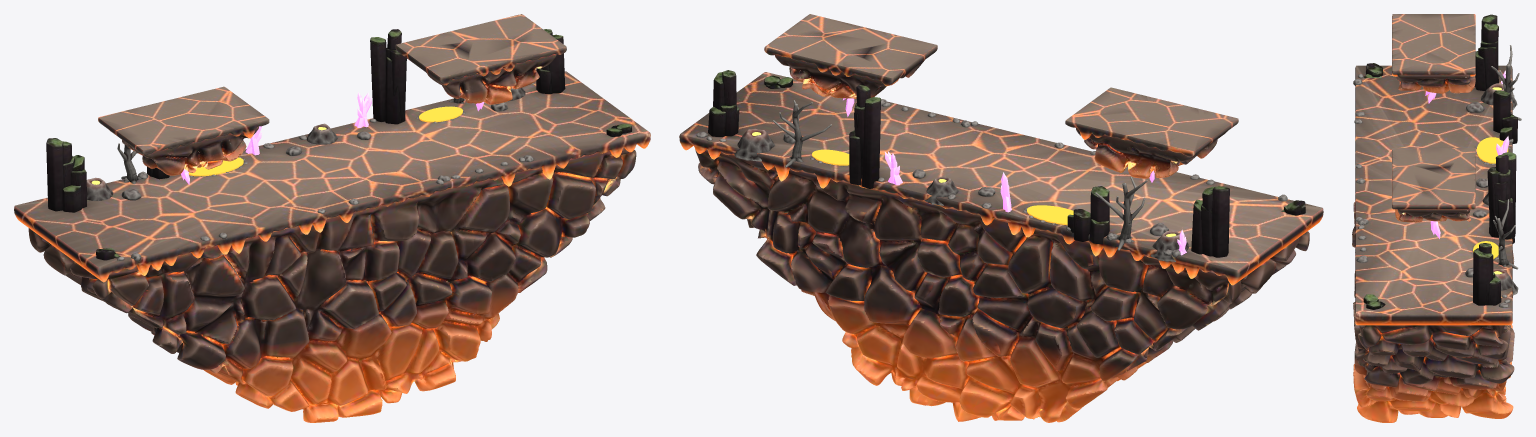
Rendered from volcan.glb.
3 views of the same model, side by side, from view 1: azimuth 30°, elevation 25°; view 2: azimuth 150°, elevation 25°; view 3: azimuth 270°, elevation 25° (orthographic). The views are drawn at different scales.
Parts seen in each view (by area): view 1: volcan_roca, volcan_costra, basalto, vplat1_costra, vplat0_costra, vplat0_roca, vplat1_roca, piedras, respiraderos, lava, cristales; view 2: volcan_roca, volcan_costra, basalto, vplat1_costra, vplat0_costra, vplat0_roca, vplat1_roca, respiraderos, arboles_quemados, piedras, lava, cristales; view 3: volcan_costra, volcan_roca, basalto, vplat1_costra, vplat0_costra, vplat0_roca, piedras, vplat1_roca, arboles_quemados, lava, respiraderos, cristales.
Part boxes in pixels (x1,y1,x2,y2): volcan_roca: (28,147,636,422); volcan_costra: (14,71,650,282); basalto: (46,29,631,260); vplat1_costra: (395,14,566,85); vplat0_costra: (98,86,269,154); vplat0_roca: (110,126,258,175); vplat1_roca: (427,54,556,104); piedras: (117,82,534,260); respiraderos: (86,88,525,200); lava: (188,106,462,176); cristales: (181,92,484,184); volcan_roca: (695,149,1309,422); volcan_costra: (679,72,1323,285); basalto: (708,70,1305,257); vplat1_costra: (764,14,937,86); vplat0_costra: (1065,87,1238,156); vplat0_roca: (1076,127,1227,178); vplat1_roca: (774,54,924,98); respiraderos: (734,128,1188,261); arboles_quemados: (773,100,1147,250); piedras: (696,99,1293,257); lava: (812,149,1073,225); cristales: (843,98,1186,255); volcan_costra: (1355,65,1512,325); volcan_roca: (1352,202,1514,422); basalto: (1363,14,1517,309); vplat1_costra: (1392,148,1475,209); vplat0_costra: (1392,14,1475,76); vplat0_roca: (1395,74,1475,93); piedras: (1353,74,1514,307); vplat1_roca: (1395,209,1470,222); arboles_quemados: (1491,45,1521,269); lava: (1473,137,1508,259); respiraderos: (1481,83,1518,294); cristales: (1425,70,1509,238).
Size of the model in its own units: 18.6 by 9.95 by 5.35.
13 materials, 7 textured.
